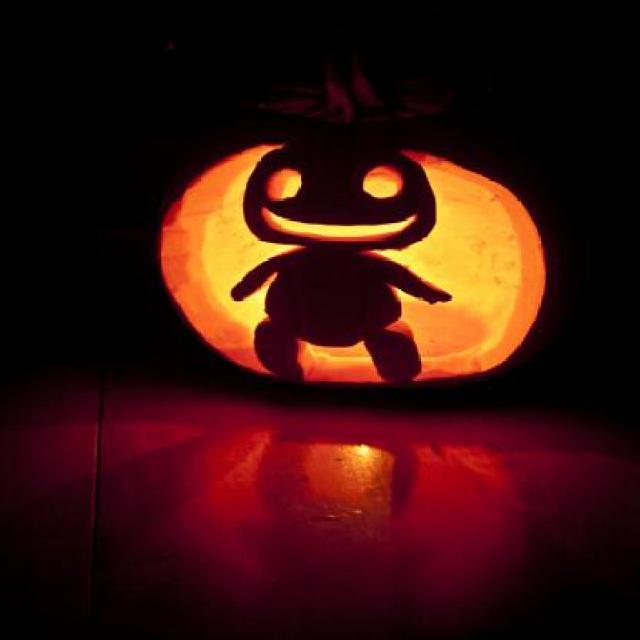Pumpkin: (142, 66, 560, 405)
